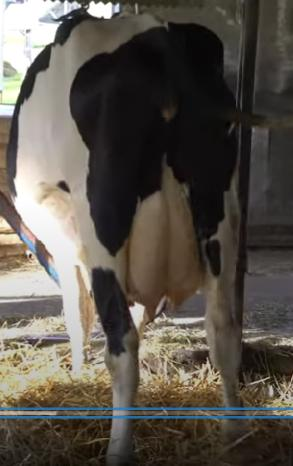cow: (10, 10, 243, 466)
